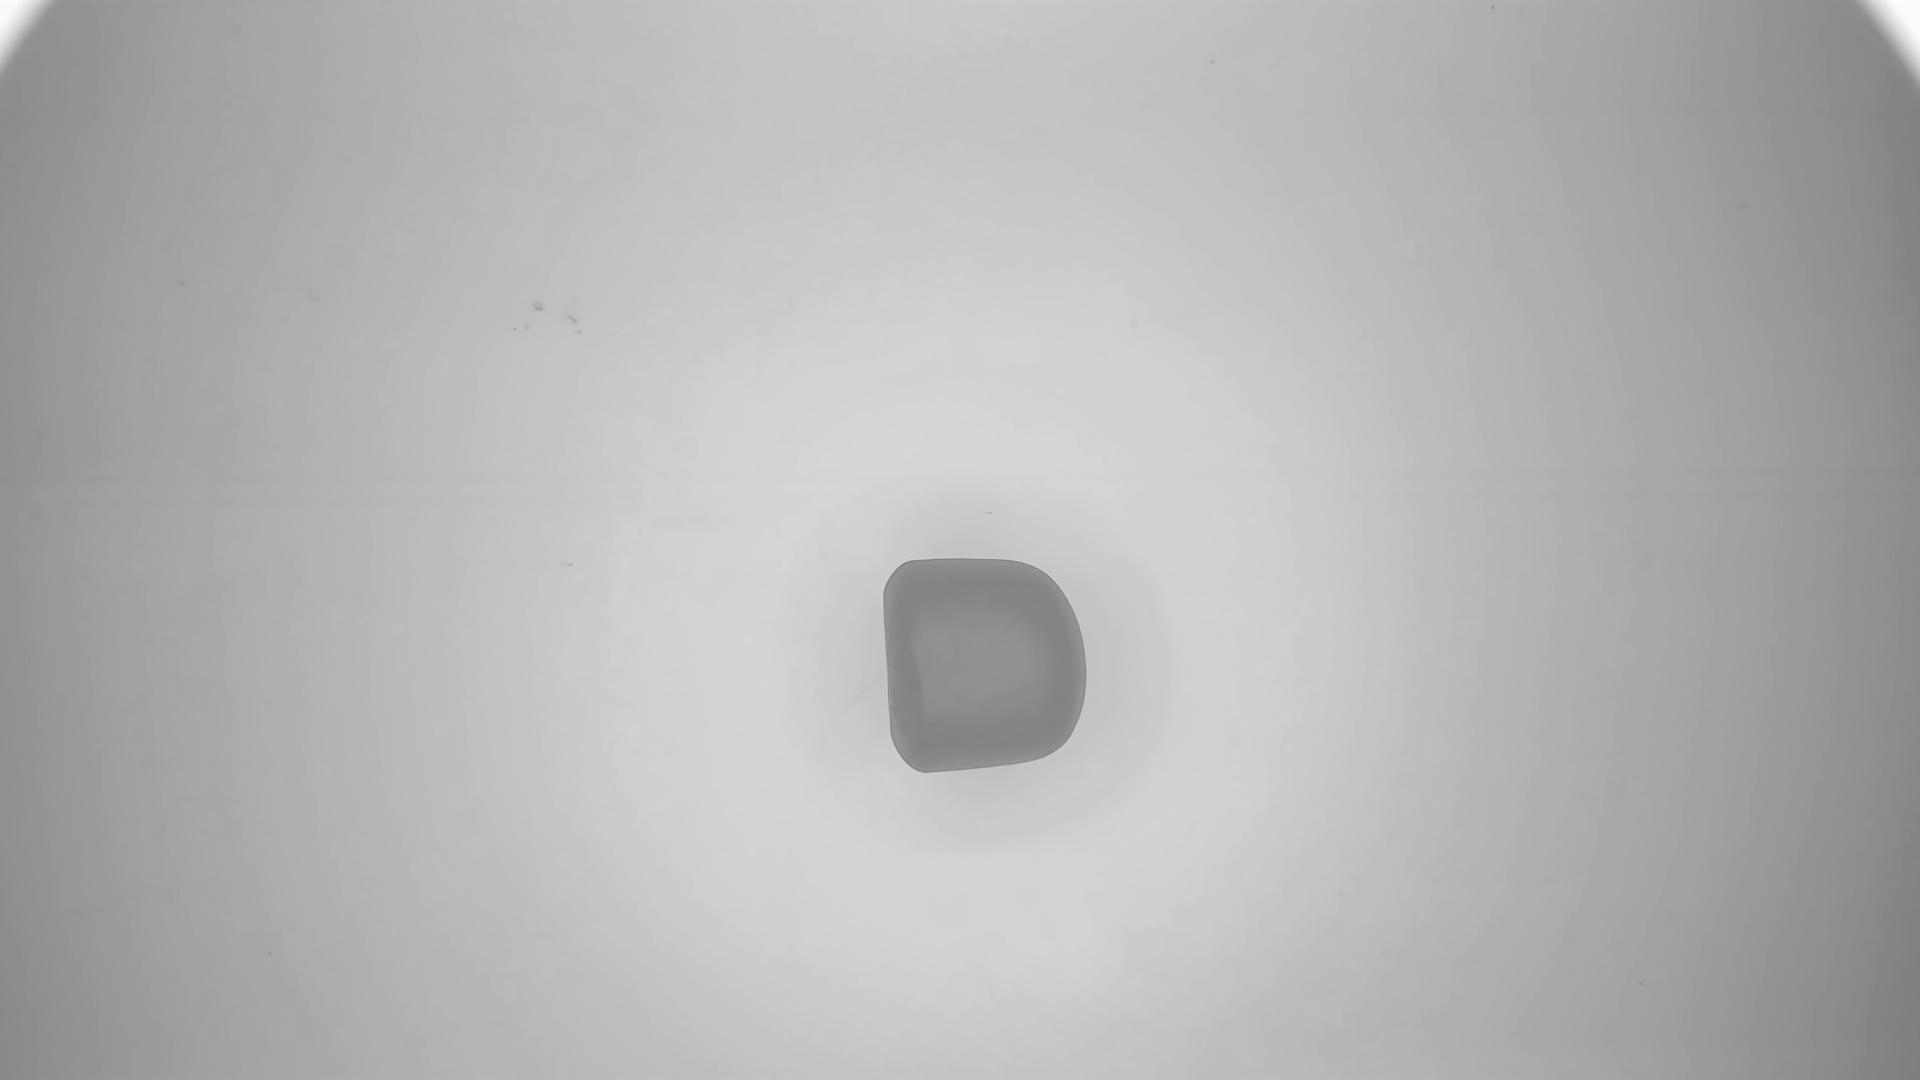normal: (884, 555, 1091, 778)
